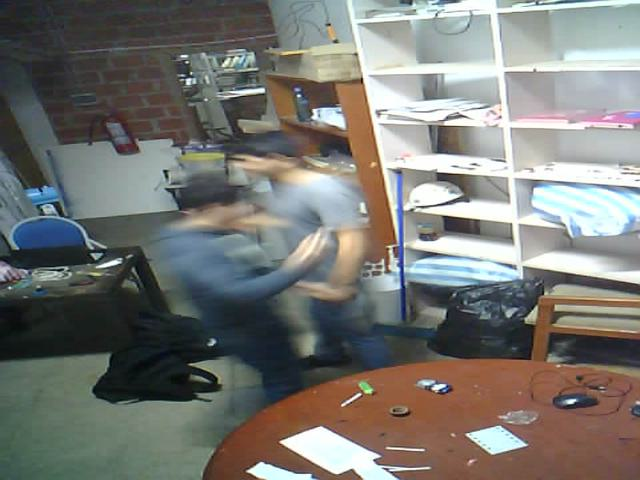person: (222, 97, 425, 396), (134, 150, 312, 444)
